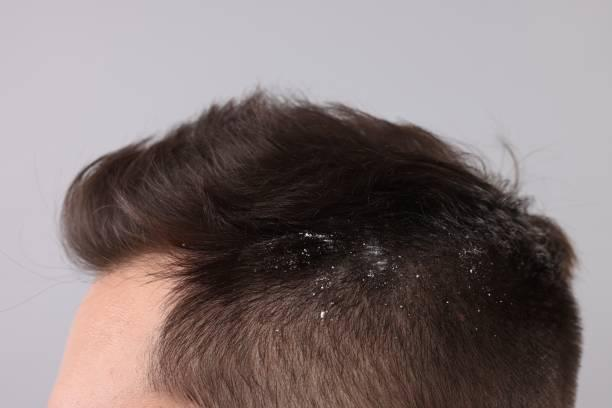dandruff: (280, 225, 420, 304), (432, 214, 488, 287), (306, 304, 338, 326), (175, 236, 189, 253)
